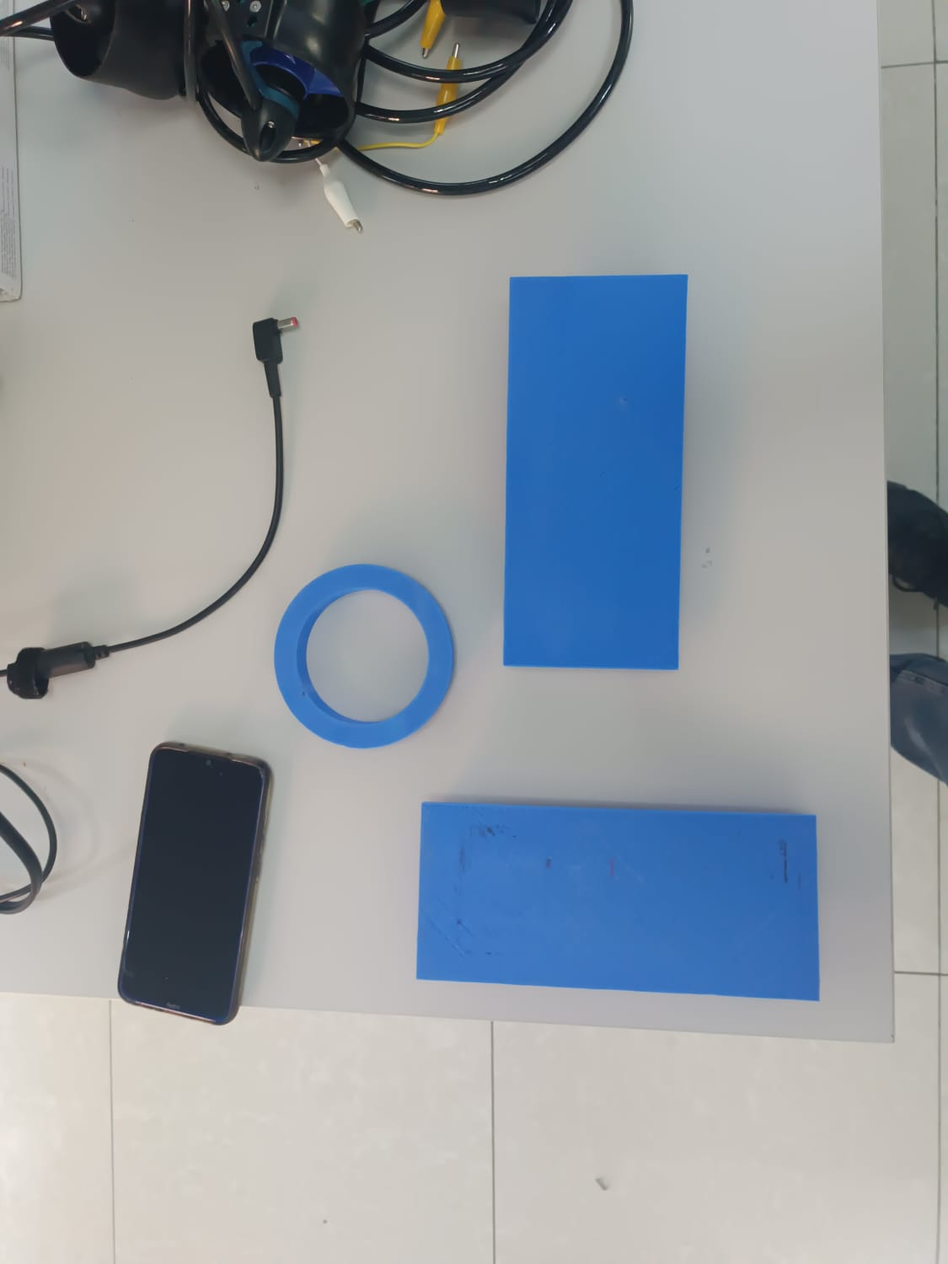Circle: (269, 553, 463, 752)
Rectangular: (405, 792, 831, 1007), (498, 266, 695, 678)
